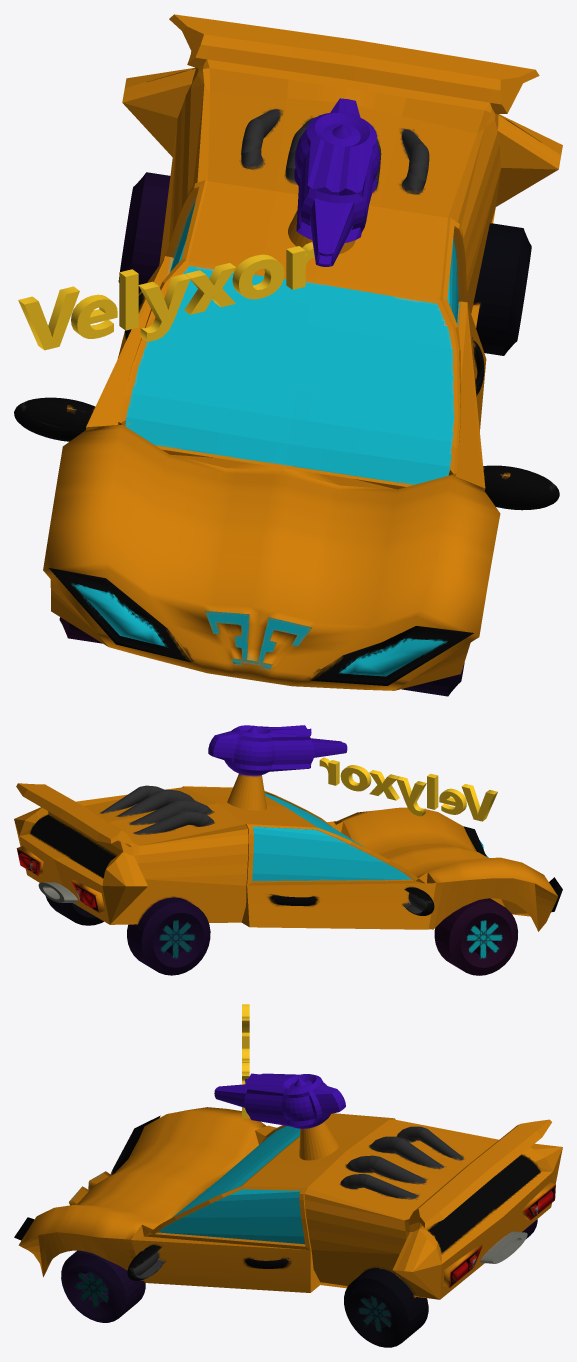
Rendered from Velyxor.fbx.
3 views of the same model, one above another, from view 1: azimuth 30°, elevation 25°; view 2: azimuth 150°, elevation 25°; view 3: azimuth 270°, elevation 25° (orthographic). The views are drawn at different scales.
Parts seen in each view (by area): view 1: mesh_id8, mesh_id9, mesh_id10, mesh_id7, mesh_id18, mesh_id20, mesh_id11, mesh_id105, mesh_id108, mesh_id110, mesh_id106, mesh_id109 (+2 smaller); view 2: mesh_id8, mesh_id9, mesh_id7, mesh_id20, mesh_id14, mesh_id10, mesh_id11, mesh_id15, mesh_id21, mesh_id105, mesh_id18, mesh_id108 (+7 smaller); view 3: mesh_id8, mesh_id9, mesh_id10, mesh_id7, mesh_id11, mesh_id18, mesh_id16, mesh_id12, mesh_id13, mesh_id17, mesh_id19.
Boxes of the visible parts, x1,y1,x2,y2 form: mesh_id8: [43, 14, 562, 690]; mesh_id9: [73, 201, 458, 676]; mesh_id10: [14, 293, 559, 685]; mesh_id7: [294, 98, 379, 266]; mesh_id18: [473, 223, 531, 355]; mesh_id20: [118, 172, 170, 293]; mesh_id11: [241, 109, 429, 194]; mesh_id105: [18, 286, 79, 350]; mesh_id108: [138, 274, 190, 341]; mesh_id110: [232, 254, 284, 299]; mesh_id106: [71, 294, 117, 338]; mesh_id109: [184, 263, 235, 314]; mesh_id8: [14, 774, 558, 931]; mesh_id9: [252, 793, 488, 881]; mesh_id7: [208, 725, 347, 775]; mesh_id20: [127, 897, 210, 975]; mesh_id14: [434, 898, 517, 975]; mesh_id10: [18, 814, 562, 915]; mesh_id11: [100, 785, 426, 914]; mesh_id15: [466, 920, 502, 958]; mesh_id21: [159, 919, 195, 958]; mesh_id105: [461, 784, 497, 821]; mesh_id18: [45, 896, 103, 925]; mesh_id108: [396, 776, 426, 816]; mesh_id8: [18, 1107, 562, 1299]; mesh_id9: [157, 1126, 304, 1244]; mesh_id10: [14, 1115, 554, 1285]; mesh_id7: [214, 1073, 345, 1128]; mesh_id11: [133, 1126, 463, 1278]; mesh_id18: [344, 1267, 428, 1347]; mesh_id16: [61, 1250, 145, 1322]; mesh_id12: [472, 1206, 538, 1268]; mesh_id13: [449, 1185, 555, 1287]; mesh_id17: [75, 1271, 108, 1307]; mesh_id19: [358, 1296, 391, 1332].
Size of the model in its own units: 1403 by 799 by 1520.
2 materials, 2 textured.
